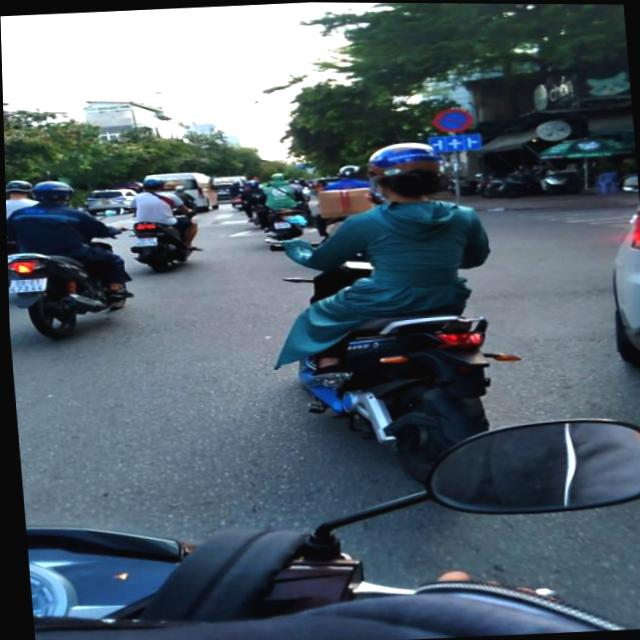Cam do xe: (430, 107, 473, 133)
